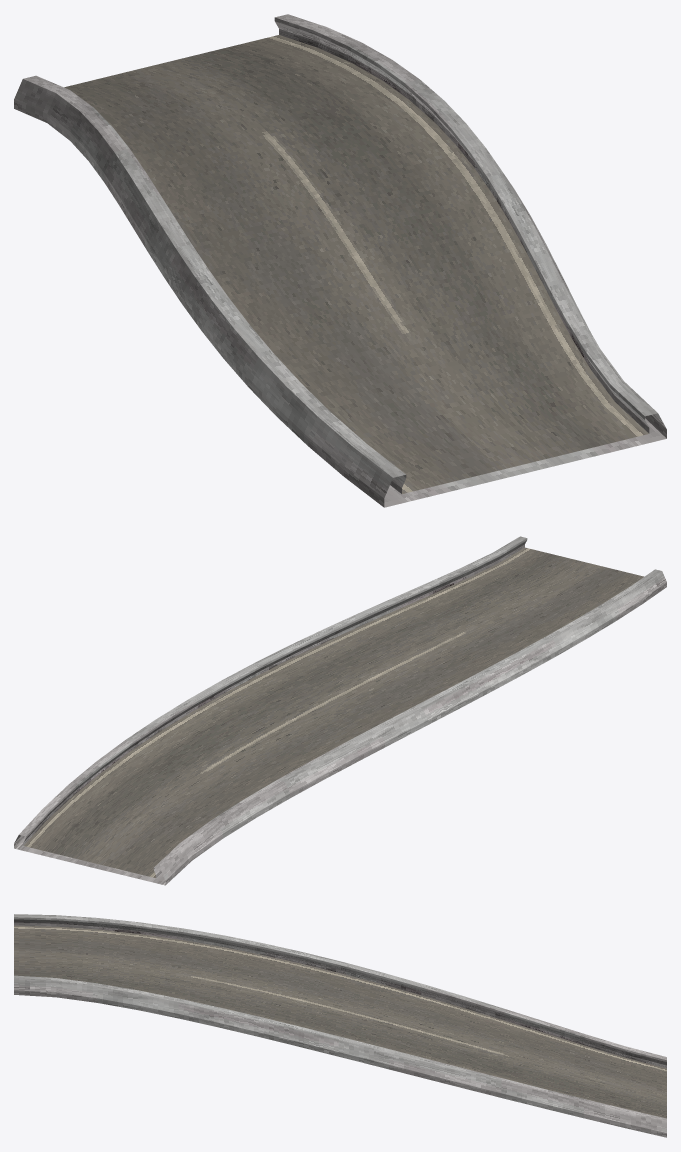
Rendered from road-Chicane-Flat-BiSlopeDown-Down2-Right1-Size4.glb.
3 views of the same model, one above another, from view 1: azimuth 30°, elevation 25°; view 2: azimuth 150°, elevation 25°; view 3: azimuth 270°, elevation 25° (orthographic). The views are drawn at different scales.
Visible parts, largest first — view 1: road-Chicane-Flat-BiSlopeDown-Down2-Right1-Size4; view 2: road-Chicane-Flat-BiSlopeDown-Down2-Right1-Size4; view 3: road-Chicane-Flat-BiSlopeDown-Down2-Right1-Size4.
Part boxes in pixels (<box>): road-Chicane-Flat-BiSlopeDown-Down2-Right1-Size4: <box>14,14,666,507</box>; road-Chicane-Flat-BiSlopeDown-Down2-Right1-Size4: <box>14,536,666,885</box>; road-Chicane-Flat-BiSlopeDown-Down2-Right1-Size4: <box>14,914,666,1137</box>.
Bounding box in the file's own units: 2 × 0.5938 × 4.
2 materials, 2 textured.
